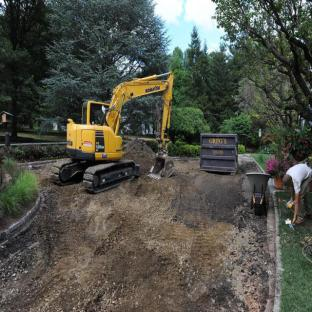ExcavationMachinery: (68, 75, 177, 192)
